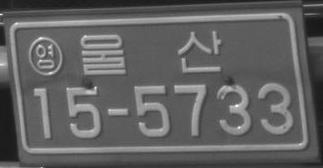-: (106, 106, 129, 118)
1: (30, 87, 59, 138)
3: (257, 81, 294, 136), (216, 82, 252, 136)
5: (64, 85, 101, 139), (133, 83, 170, 137)
7: (173, 82, 209, 137)
영: (27, 36, 63, 76)
울산_D: (80, 29, 221, 76)
